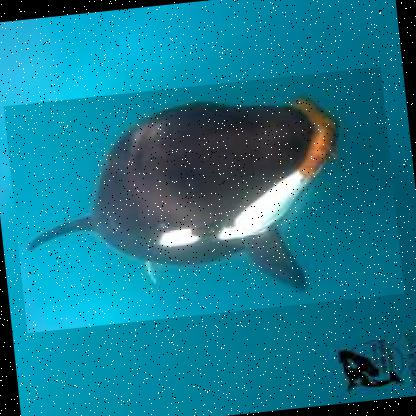killer_whale: (3, 66, 405, 333)
